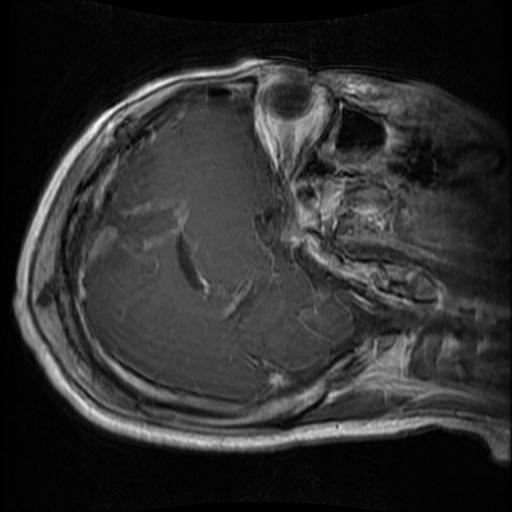glioma: (82, 194, 178, 264)
